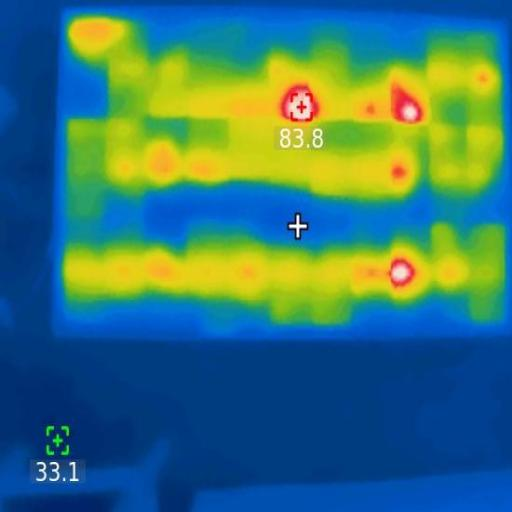hotspot: (389, 87, 421, 132), (282, 87, 318, 125), (390, 259, 415, 287), (393, 167, 406, 184)
